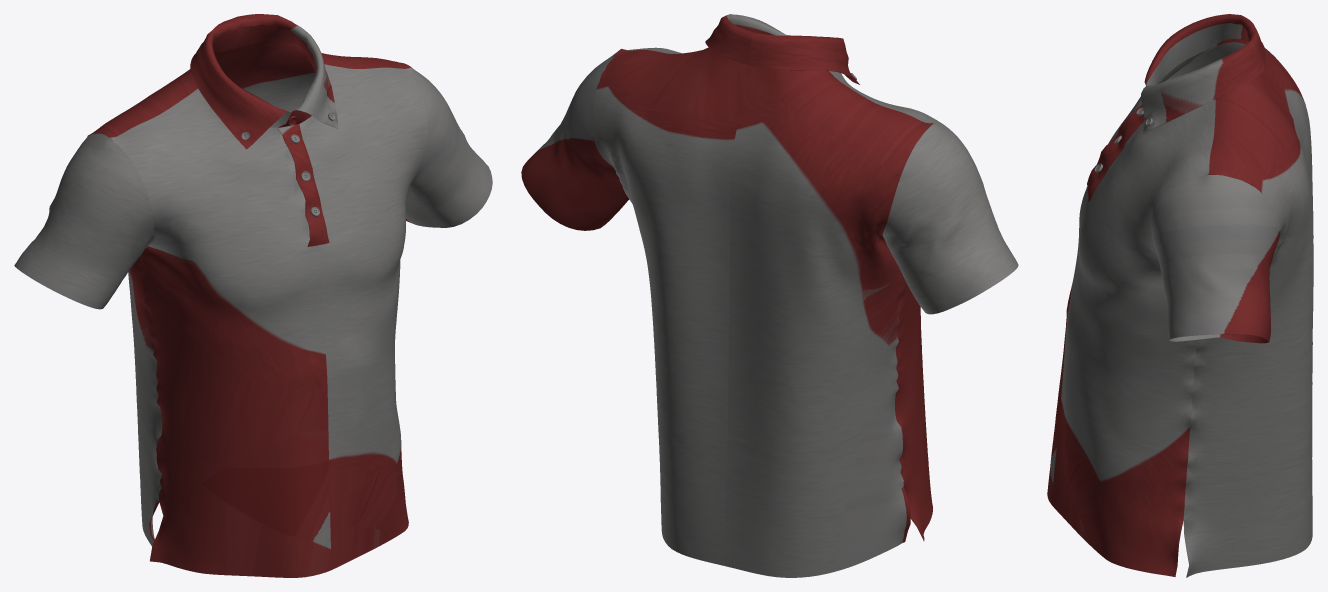
3 views of the same model, side by side, from view 1: azimuth 30°, elevation 25°; view 2: azimuth 150°, elevation 25°; view 3: azimuth 270°, elevation 25° (orthographic). The views are drawn at different scales.
Visible parts, largest first — view 1: skfb_offset; view 2: skfb_offset; view 3: skfb_offset.
Boxes of the visible parts, bbox=[...] form: skfb_offset: bbox=[14, 14, 492, 577]; skfb_offset: bbox=[521, 14, 1018, 577]; skfb_offset: bbox=[1047, 14, 1313, 577].
Bounding box in the file's own units: 6496 × 6615 × 3238.
